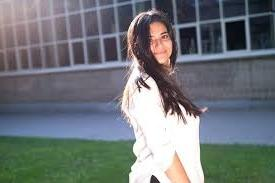Human: (107, 5, 213, 183)
